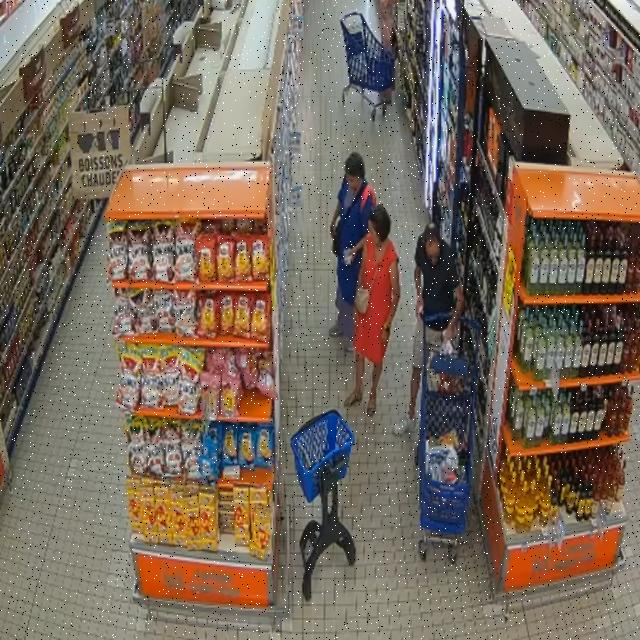article: (439, 340, 452, 356), (380, 326, 390, 344), (343, 248, 351, 266)
bags: (355, 250, 386, 314), (345, 184, 375, 220)
hands: (444, 323, 455, 342), (416, 298, 423, 318), (348, 247, 356, 262), (330, 218, 336, 237), (383, 319, 391, 329), (354, 307, 358, 326)
person: (393, 224, 463, 435), (345, 205, 399, 416), (330, 153, 375, 351)
